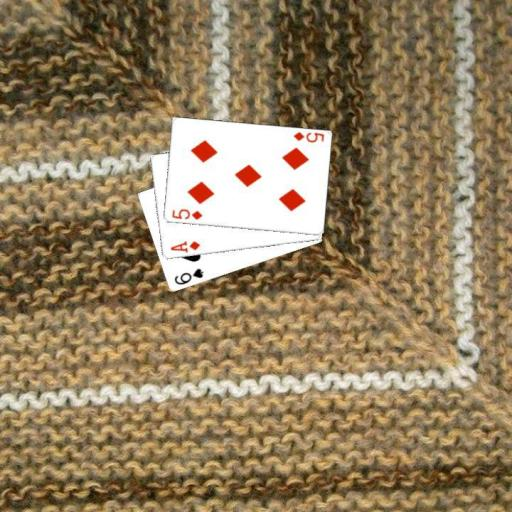5D: (169, 205, 204, 222), (290, 129, 325, 144)
6S: (171, 265, 205, 287)
AD: (167, 238, 201, 254)
